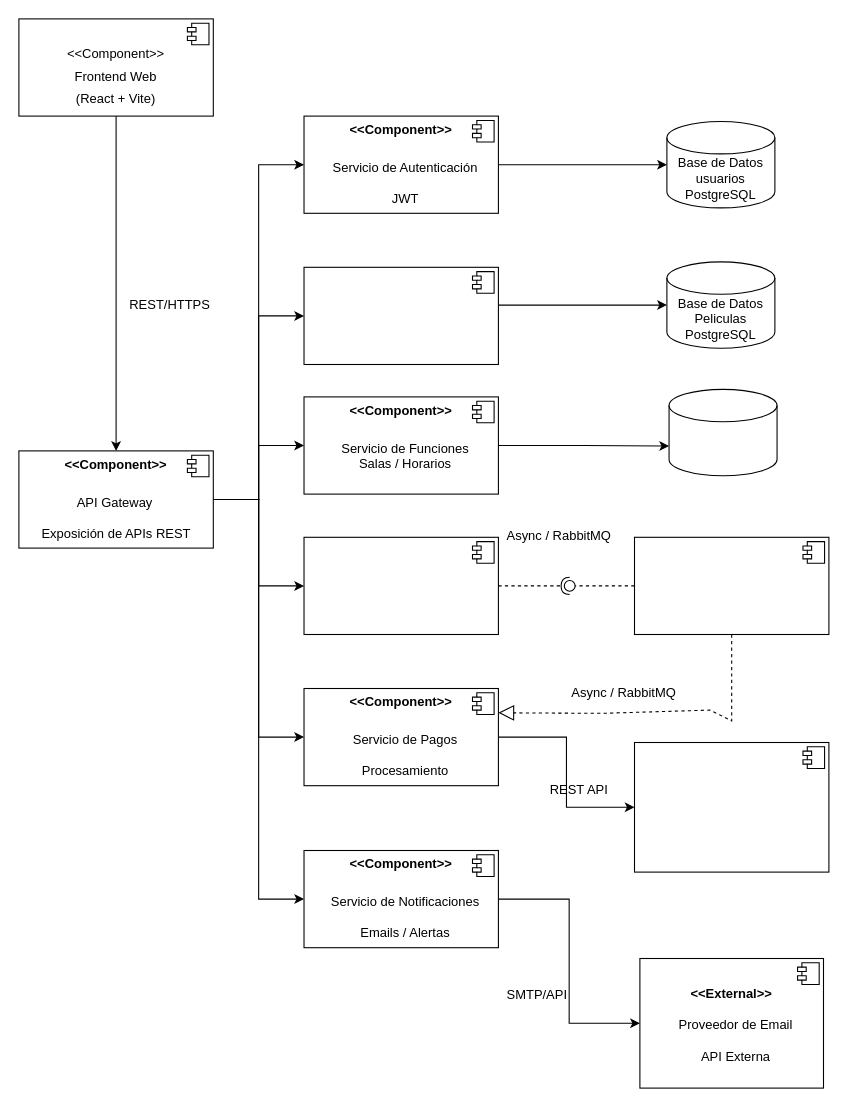
Some shapes in this 848 by 1107 pixel diagram are drawn without their labels. Here are the shapes that lost their labels. From the top down, the box of each, then its label:
(303, 266, 498, 364): <<Component>> Servicio de Peliculas Catalogo / Generos
(668, 388, 777, 476): Base de Datos Funciones PostgreSQL
(303, 536, 498, 634): <<Component>> Servicio de Reservas y Asientos Seleccion / Bloqueo
(633, 536, 829, 634): <<Component>> RabbitMQ Broker
(633, 741, 829, 872): <<External>> Pasarela de Pago Simulado API Externa
